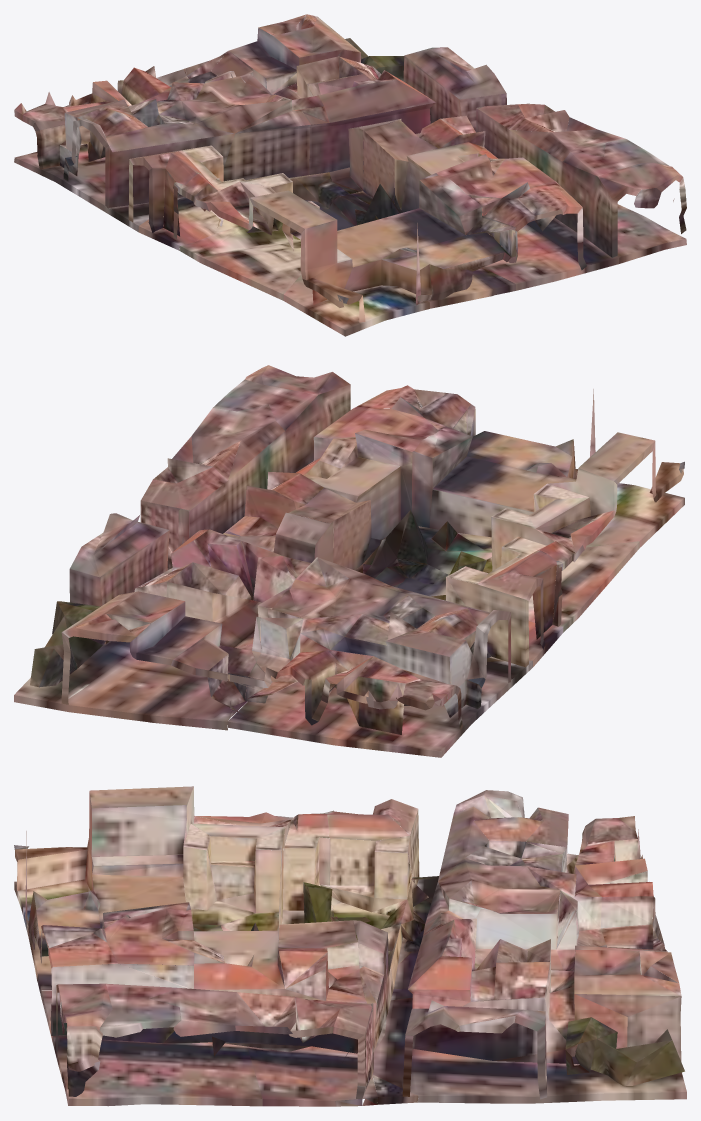
3 renders of one model, top to bottom at view 1: azimuth 30°, elevation 25°; view 2: azimuth 150°, elevation 25°; view 3: azimuth 270°, elevation 25°, orthographic. The views are drawn at different scales.
Parts seen in each view (by area): view 1: Mesh_0; view 2: Mesh_0; view 3: Mesh_0.
Boxes of the visible parts, left/top/right/bottom form: Mesh_0: left=14, top=14, right=686, bottom=336; Mesh_0: left=14, top=365, right=684, bottom=757; Mesh_0: left=14, top=786, right=686, bottom=1106.
Bounding box in the file's own units: 133 × 38.48 × 165.
2 materials, 2 textured.
